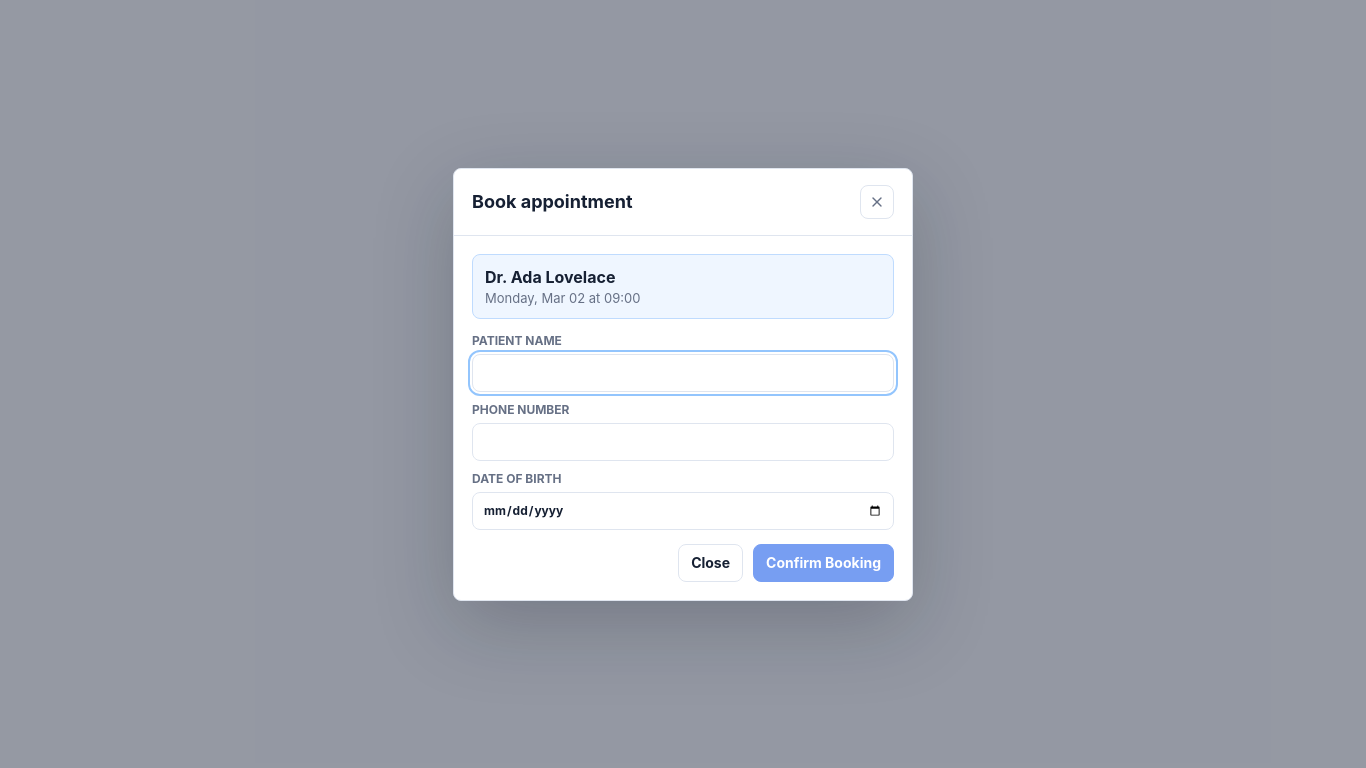
BookingDialog › can register a new patient instead, and an edit makes the matches go away
In the field labelled "Patient Name": coordinates (683, 372) top-left (472, 354), bottom-right (894, 392), type "Grace Hoper"
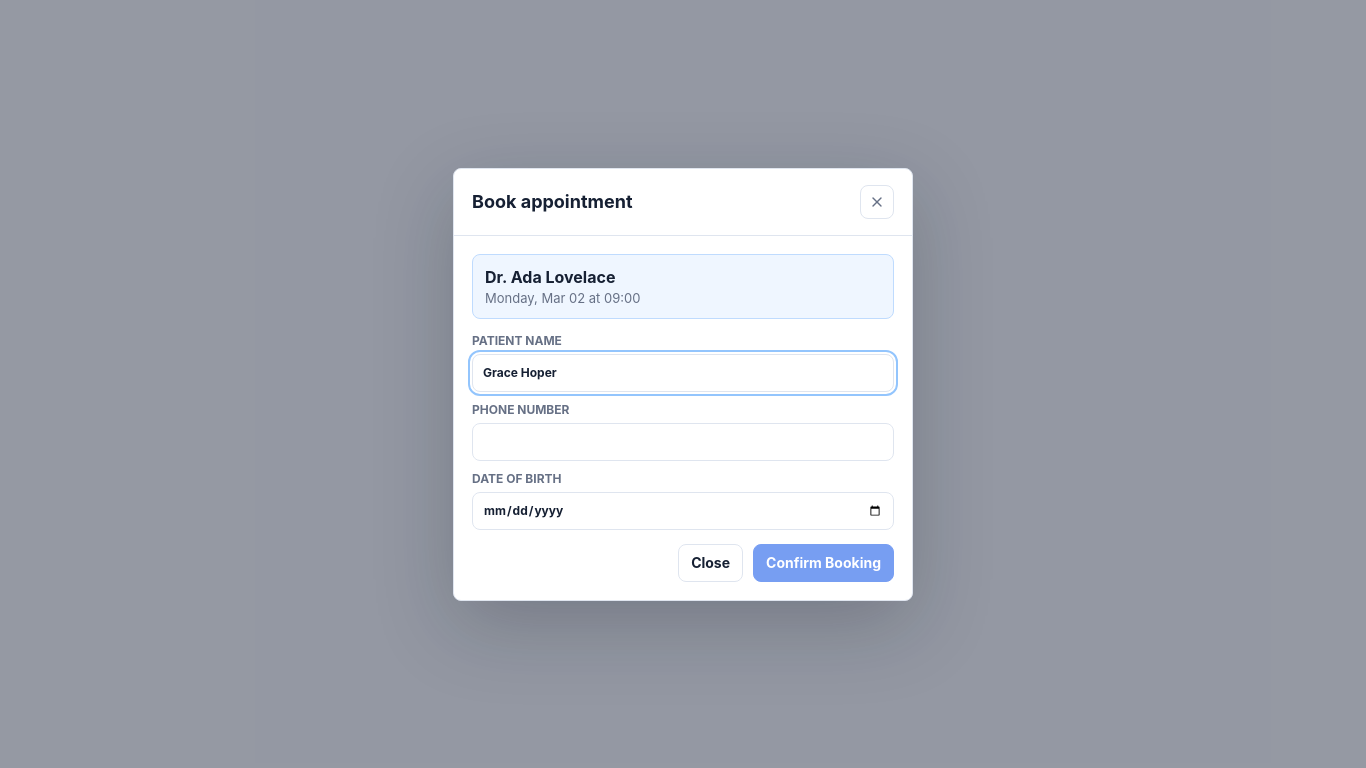
In the field labelled "Phone Number": coordinates (683, 442) top-left (472, 422), bottom-right (894, 460), type "0888123456"
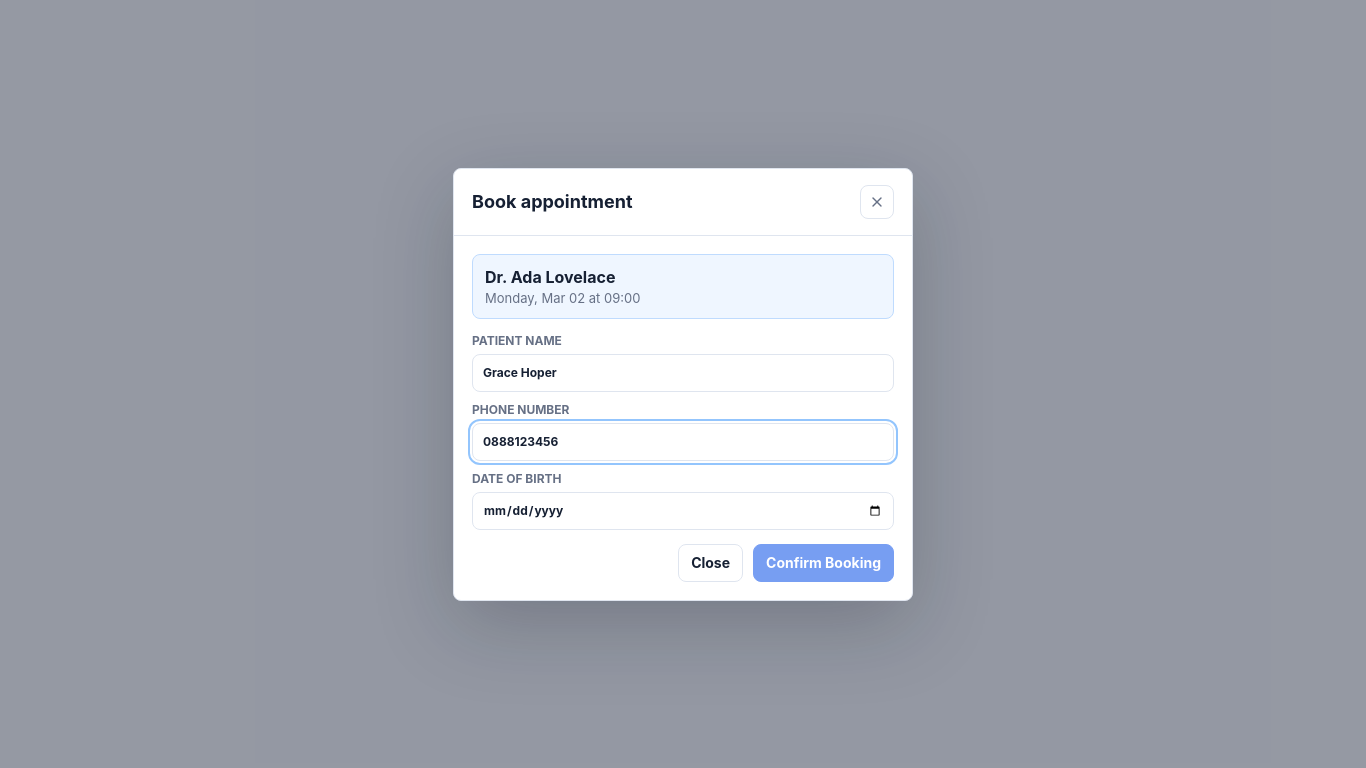
In the date field labelled "Date of Birth": coordinates (683, 510) top-left (472, 492), bottom-right (894, 530), type "1990-05-20"
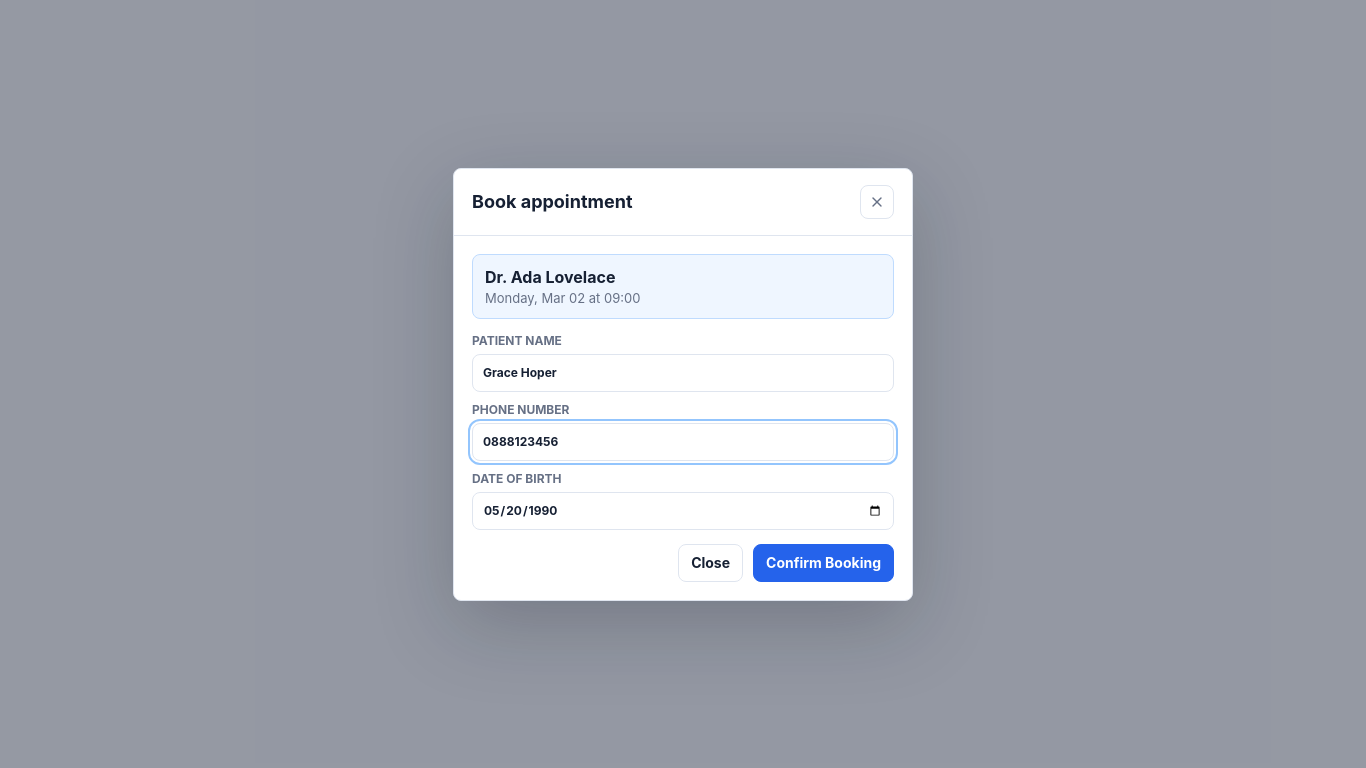
Click the button "Confirm Booking": coordinates (824, 562) top-left (753, 544), bottom-right (894, 582)
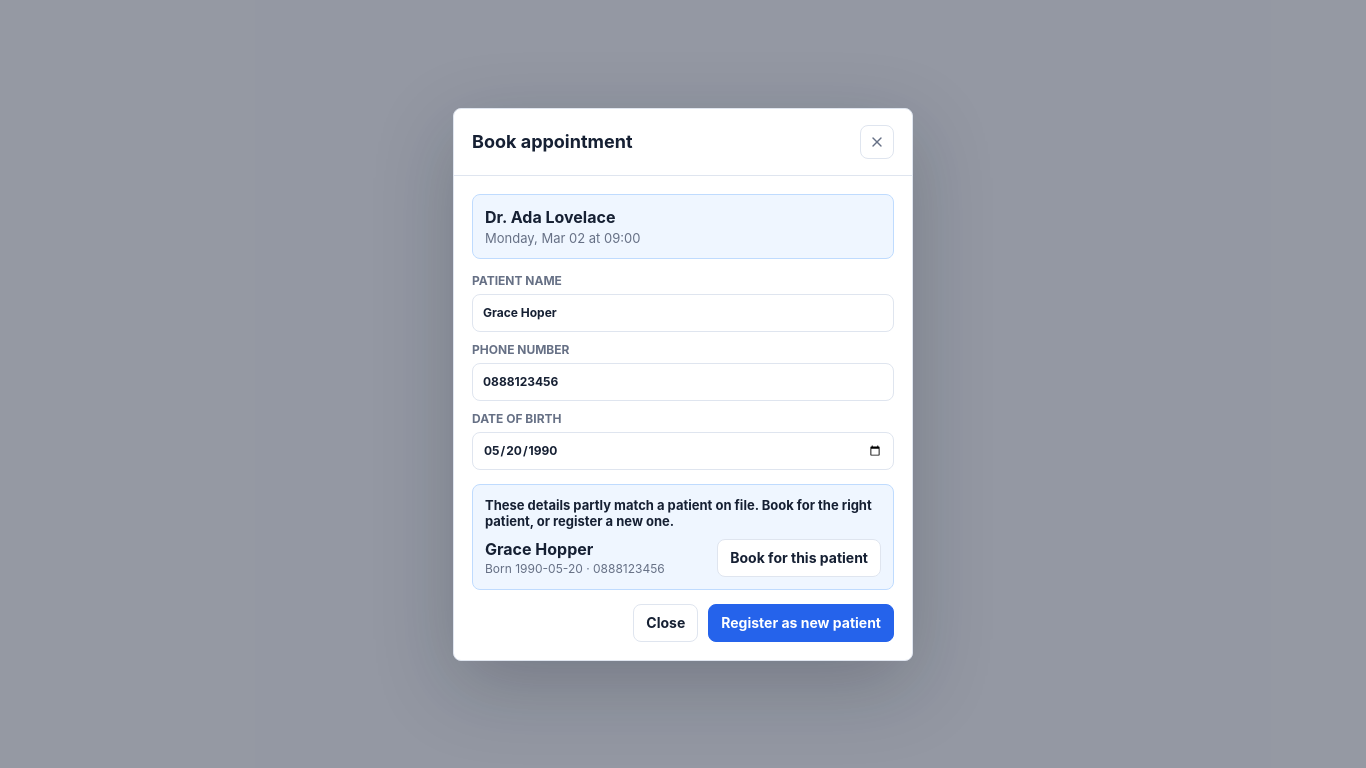
Click the button "Register as new patient": coordinates (801, 622) top-left (708, 604), bottom-right (894, 642)
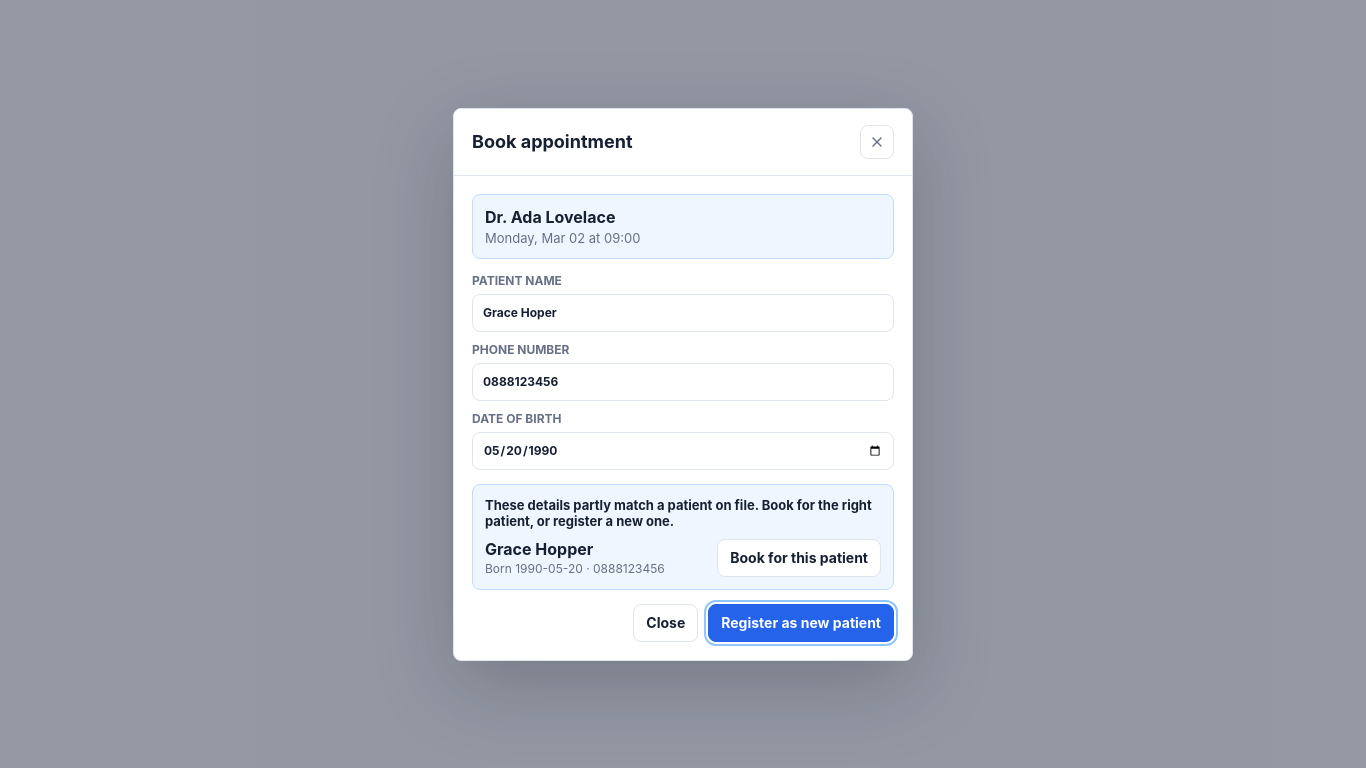
In the field labelled "Patient Name": coordinates (683, 312) top-left (472, 294), bottom-right (894, 332), type "p"
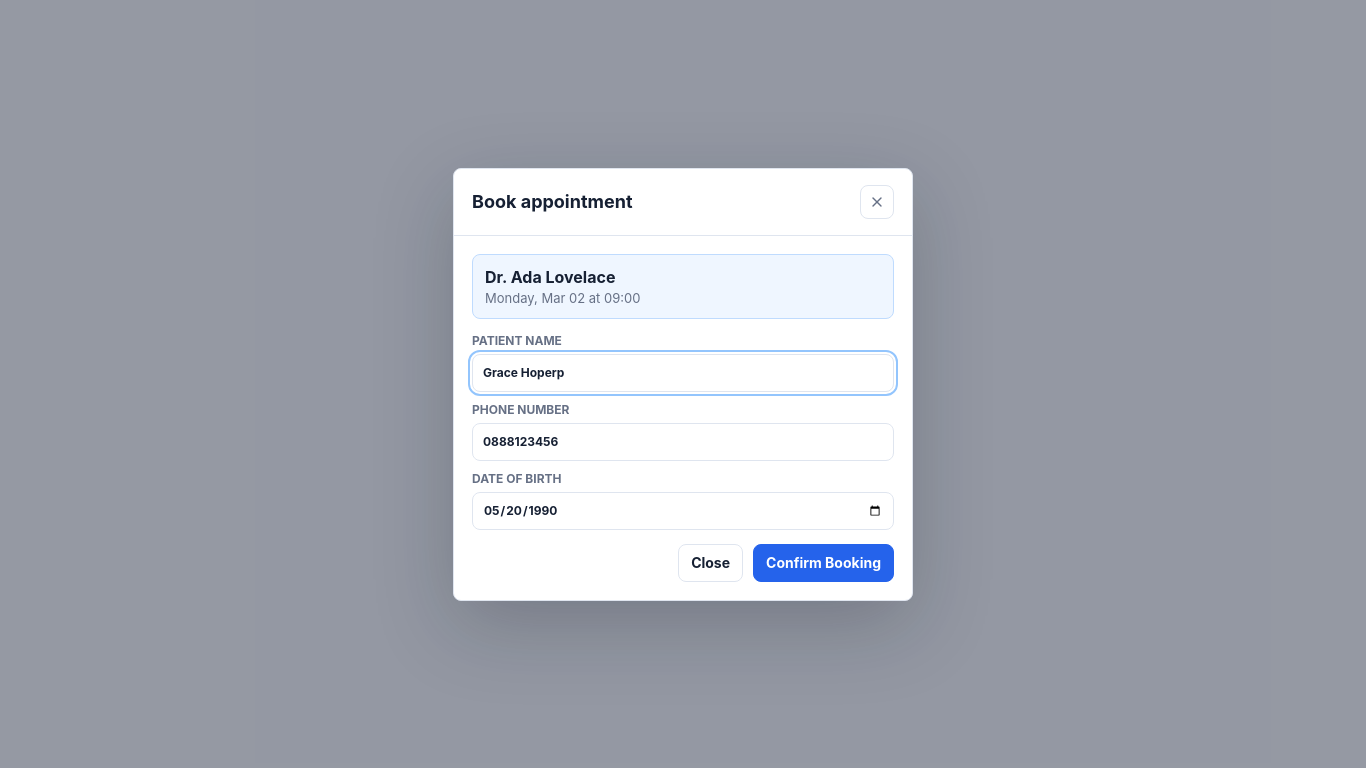
Check: the button "Confirm Booking" is shown, box top-left (753, 544), bottom-right (894, 582)
